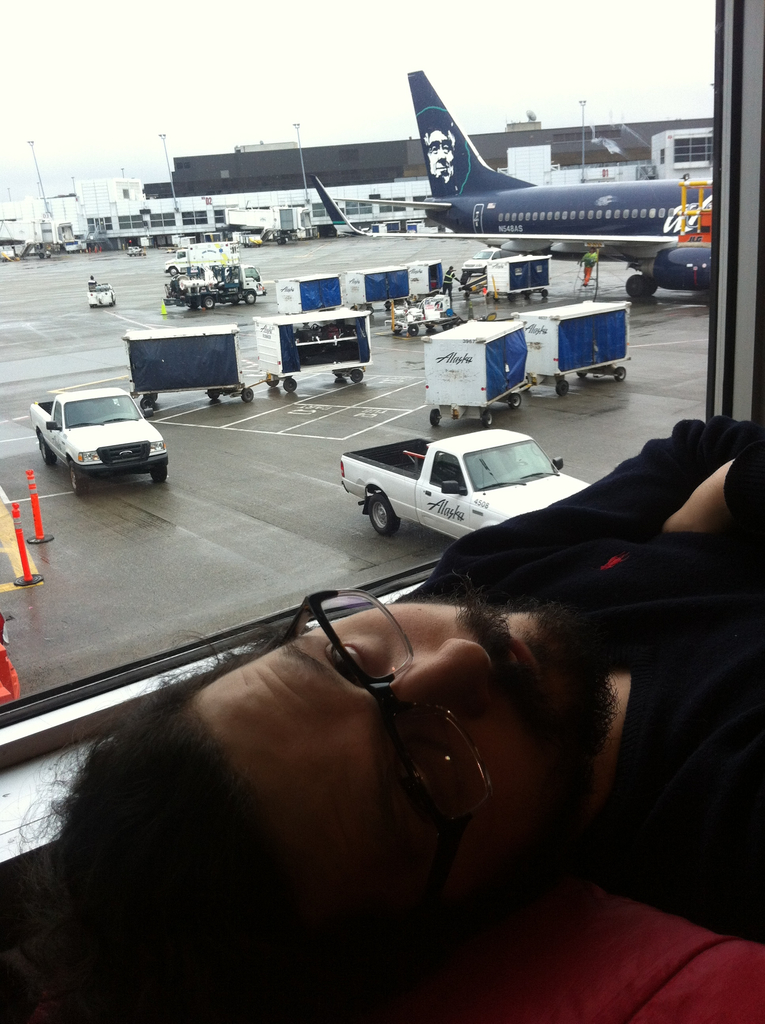mobil: (333, 424, 591, 537), (31, 384, 193, 505)
